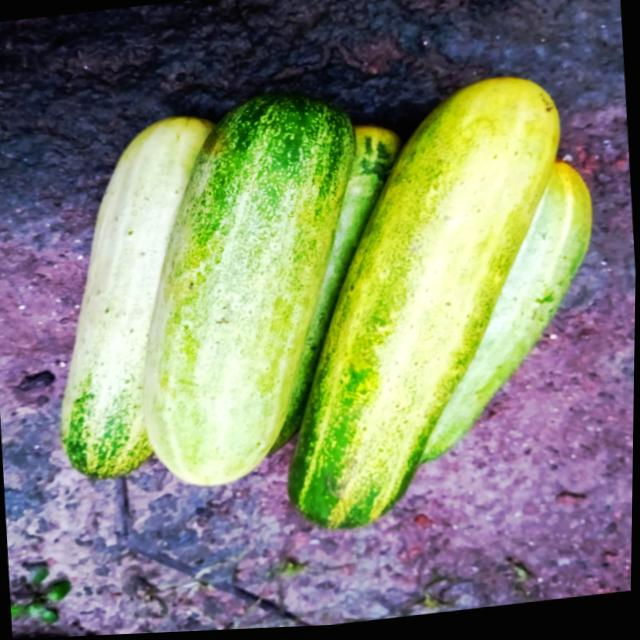Fresh-Cucumber: (258, 68, 593, 546), (121, 83, 380, 502), (37, 109, 244, 492), (397, 157, 617, 473)
